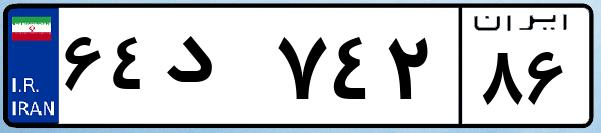2: (385, 28, 445, 110)
4: (330, 28, 385, 110), (110, 28, 158, 98)
6: (57, 26, 110, 100), (525, 38, 570, 115)
7: (270, 28, 330, 110)
8: (475, 38, 525, 113)
د: (158, 20, 270, 120)
